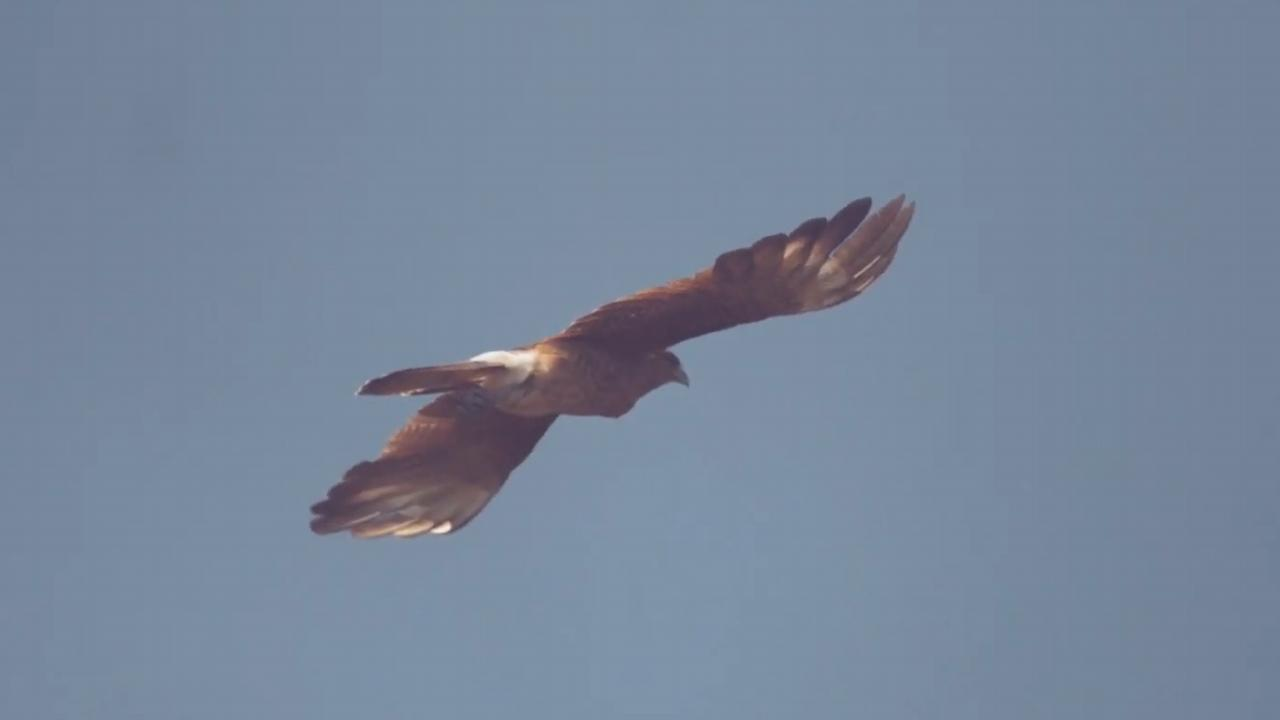Bird: (301, 188, 926, 546)
